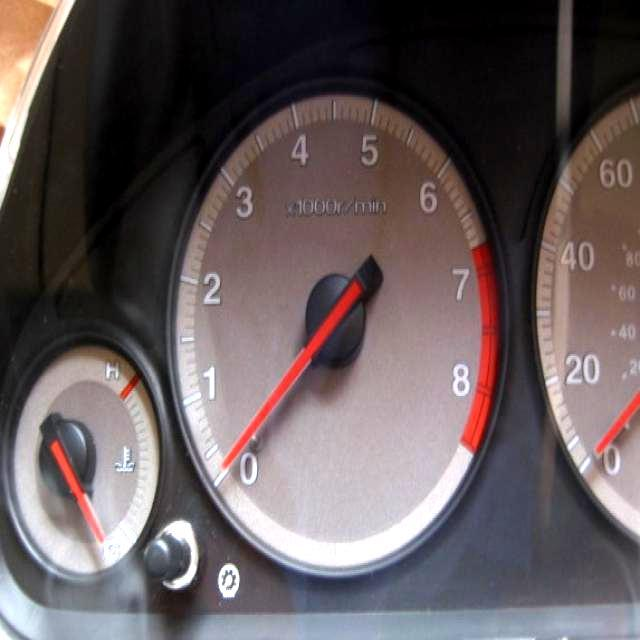Needle_Tip: (217, 438, 243, 482)
Needle_base: (299, 262, 372, 373)
max_value: (444, 349, 483, 407)
min_value: (232, 450, 264, 494)
